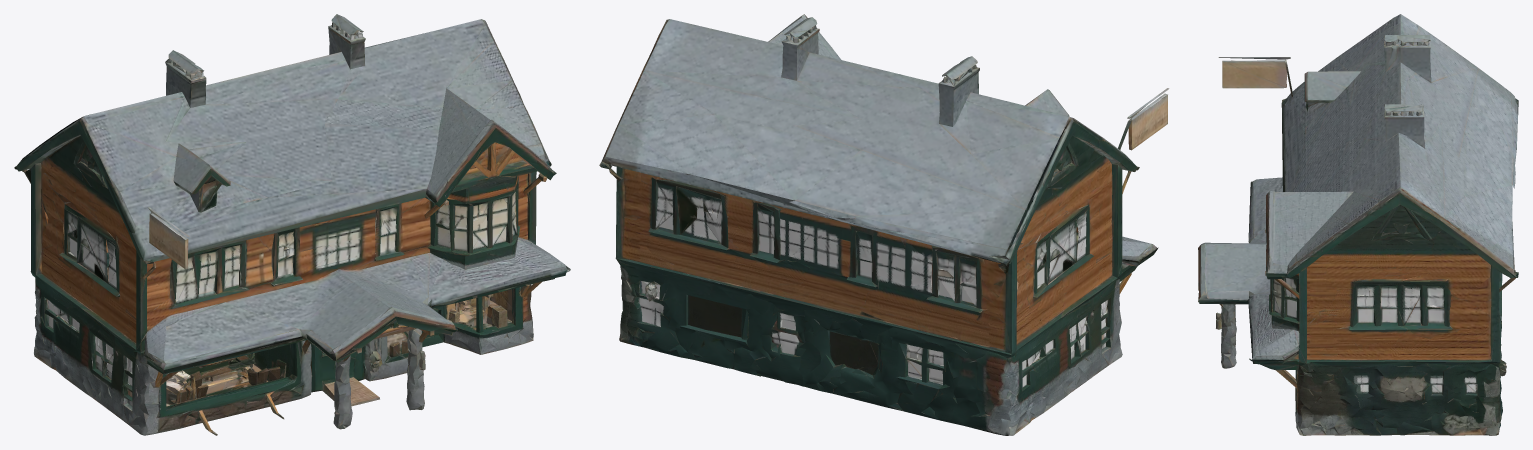
Rendered from shop_timber.glb.
The picture shows the model from 3 angles, left to right: view 1: azimuth 30°, elevation 25°; view 2: azimuth 150°, elevation 25°; view 3: azimuth 270°, elevation 25°; orthographic projection. The views are drawn at different scales.
Size of the model in its own units: 1.9 by 1.37 by 1.45.
Materials: 1 (1 with a texture image).
